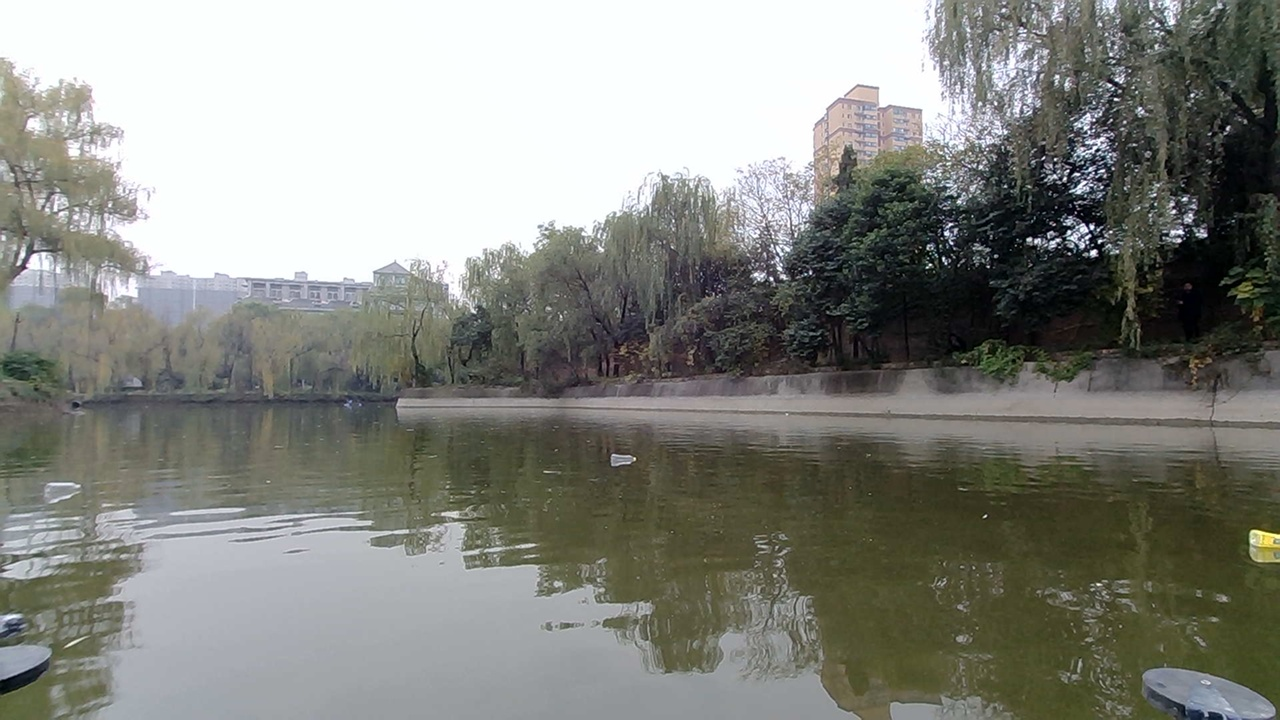bottle: (1, 577, 107, 633), (8, 469, 105, 512), (605, 433, 660, 472), (1248, 523, 1280, 568)
